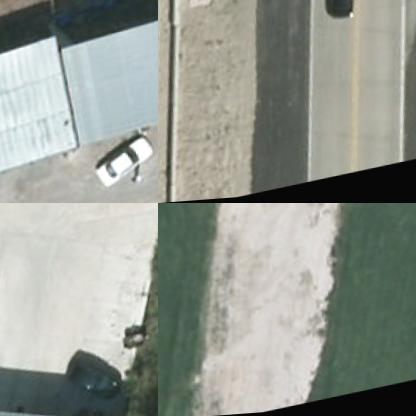car: (63, 350, 126, 414), (91, 132, 157, 192), (319, 0, 364, 24)
